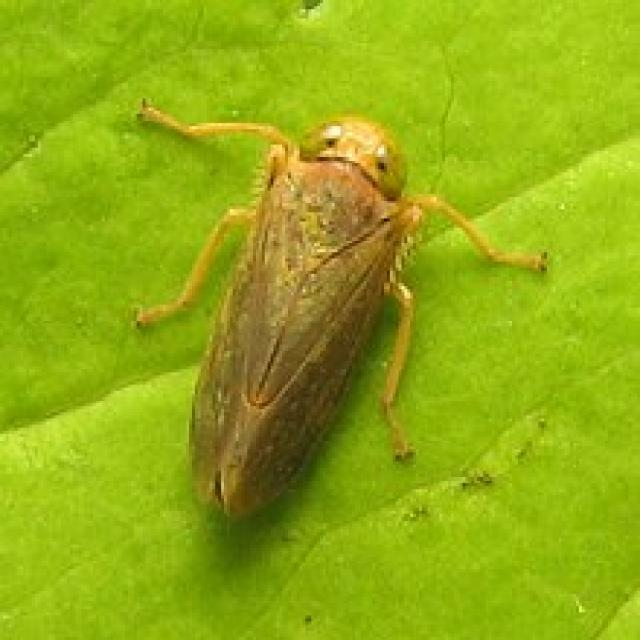Yechan: (110, 76, 498, 555)
